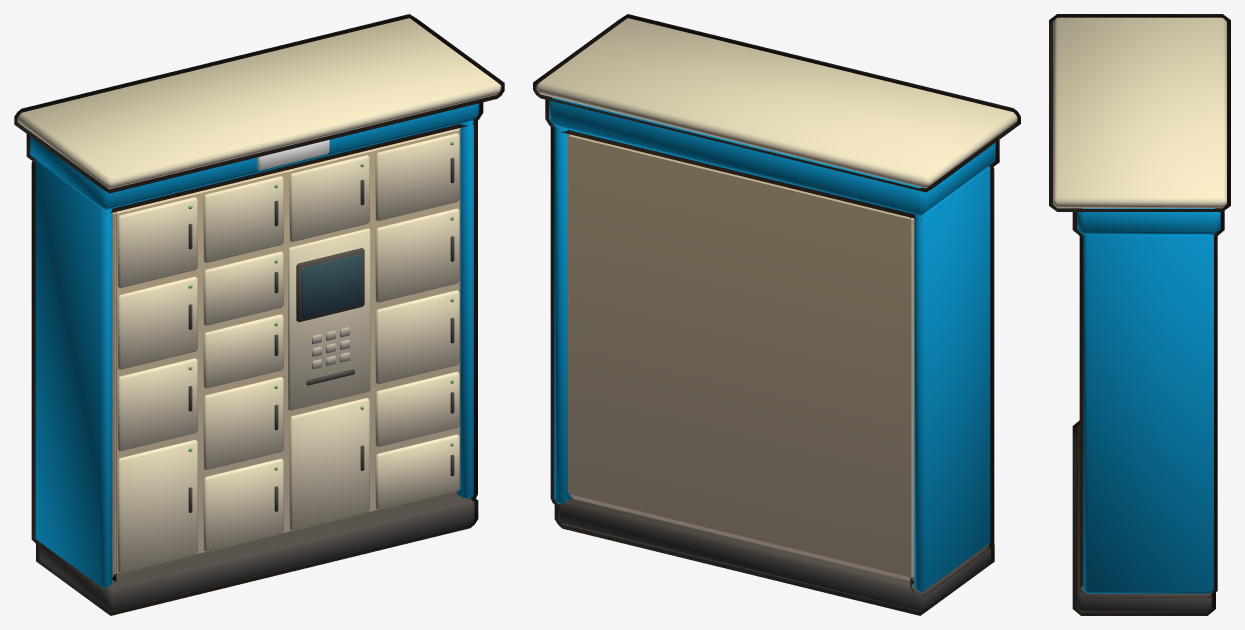
File: PaketDolabi.fbx
3 renders of one model, left to right at view 1: azimuth 30°, elevation 25°; view 2: azimuth 150°, elevation 25°; view 3: azimuth 270°, elevation 25°, orthographic. The views are drawn at different scales.
Parts seen in each view (by area): view 1: PaketDolabi; view 2: PaketDolabi; view 3: PaketDolabi.
Boxes of the visible parts, x1,y1,x2,y2 form: PaketDolabi: [14, 14, 504, 615]; PaketDolabi: [533, 14, 1020, 615]; PaketDolabi: [1049, 14, 1230, 615].
Bounding box in the file's own units: 2.01 × 2.18 × 0.8344.
4 materials, 1 textured.
